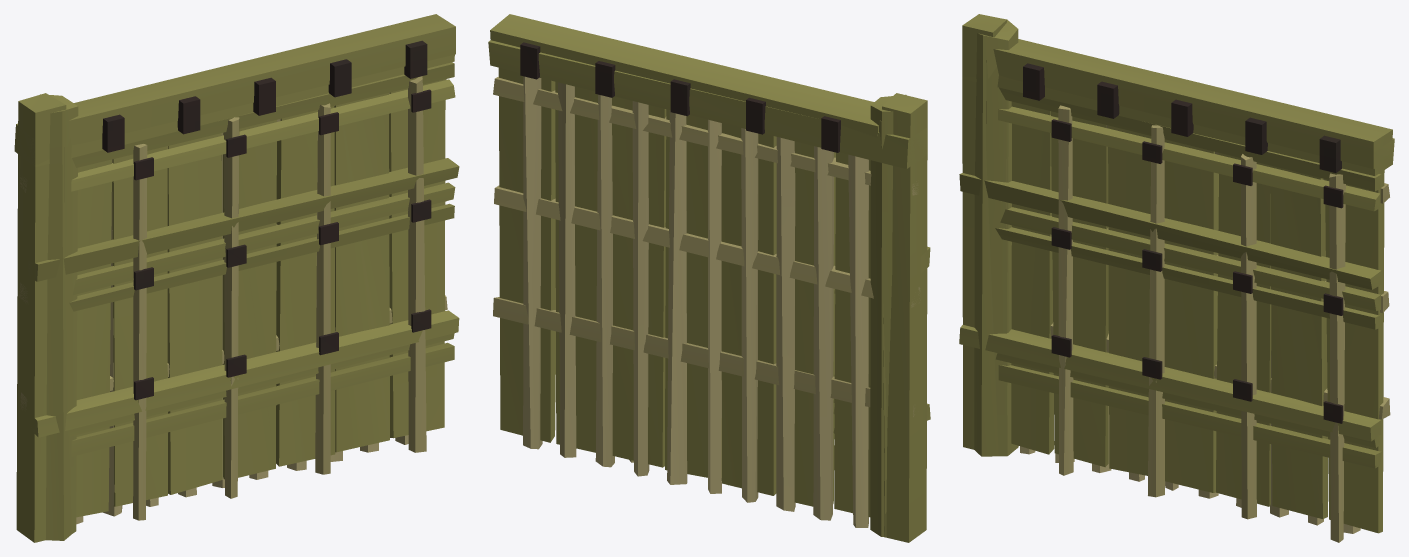
The model's file is fence.glb.
3 renders of one model, left to right at view 1: azimuth 30°, elevation 25°; view 2: azimuth 150°, elevation 25°; view 3: azimuth 330°, elevation 25°, orthographic. The views are drawn at different scales.
Parts seen in each view (by area): view 1: fence.v2.mesh, fence.v1.mesh, fence.v0.mesh; view 2: fence.v2.mesh, fence.v1.mesh, fence.v0.mesh; view 3: fence.v2.mesh, fence.v1.mesh, fence.v0.mesh.
Boxes of the visible parts, left/top/right/bottom form: fence.v2.mesh: left=16, top=14, right=455, bottom=542; fence.v1.mesh: left=14, top=40, right=459, bottom=540; fence.v0.mesh: left=19, top=76, right=447, bottom=533; fence.v2.mesh: left=490, top=14, right=927, bottom=542; fence.v1.mesh: left=488, top=40, right=930, bottom=536; fence.v0.mesh: left=493, top=76, right=920, bottom=537; fence.v2.mesh: left=962, top=14, right=1392, bottom=533; fence.v1.mesh: left=959, top=19, right=1394, bottom=533; fence.v0.mesh: left=986, top=37, right=1390, bottom=542.
Size of the model in its own units: 1 by 0.98 by 0.115.
